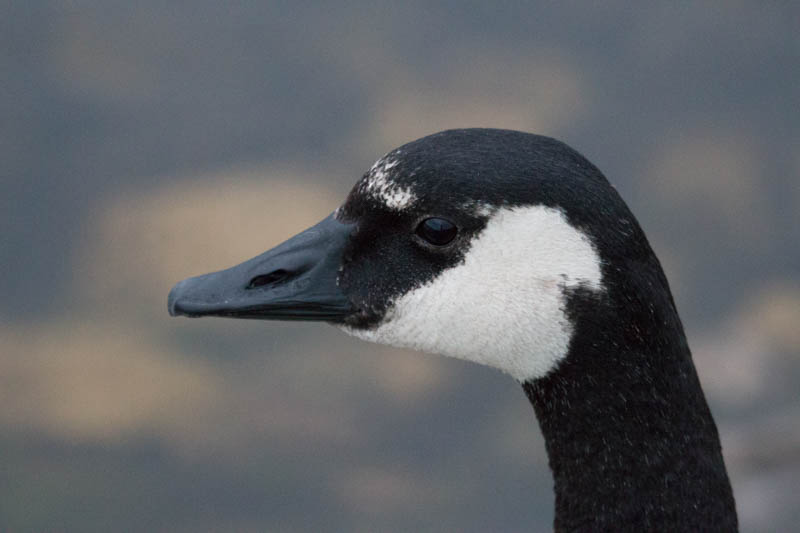goose-head: (165, 127, 649, 384)
